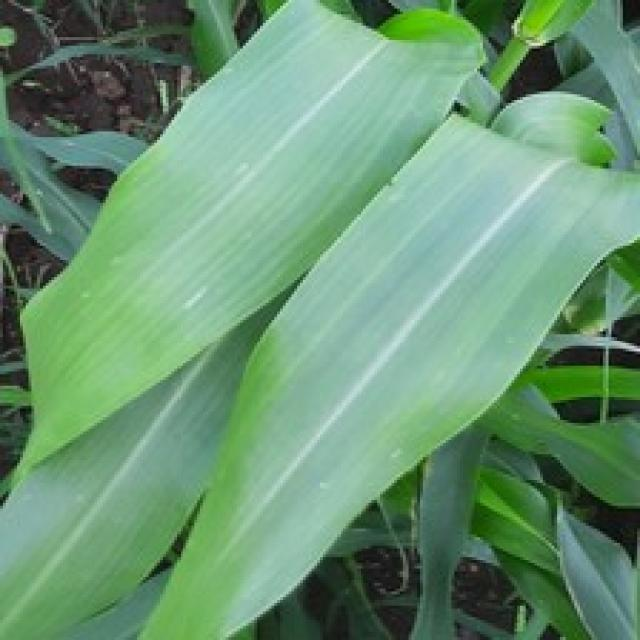Corn: (0, 0, 637, 637), (552, 500, 637, 637)
